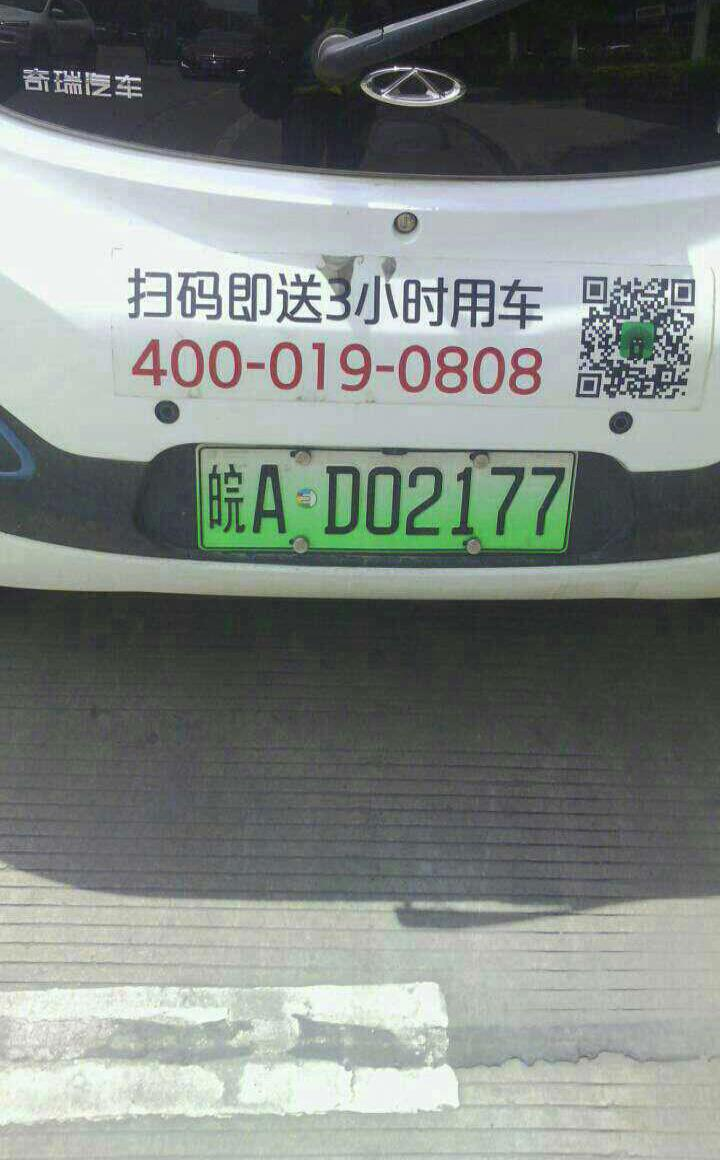car_id: (196, 447, 574, 549)
